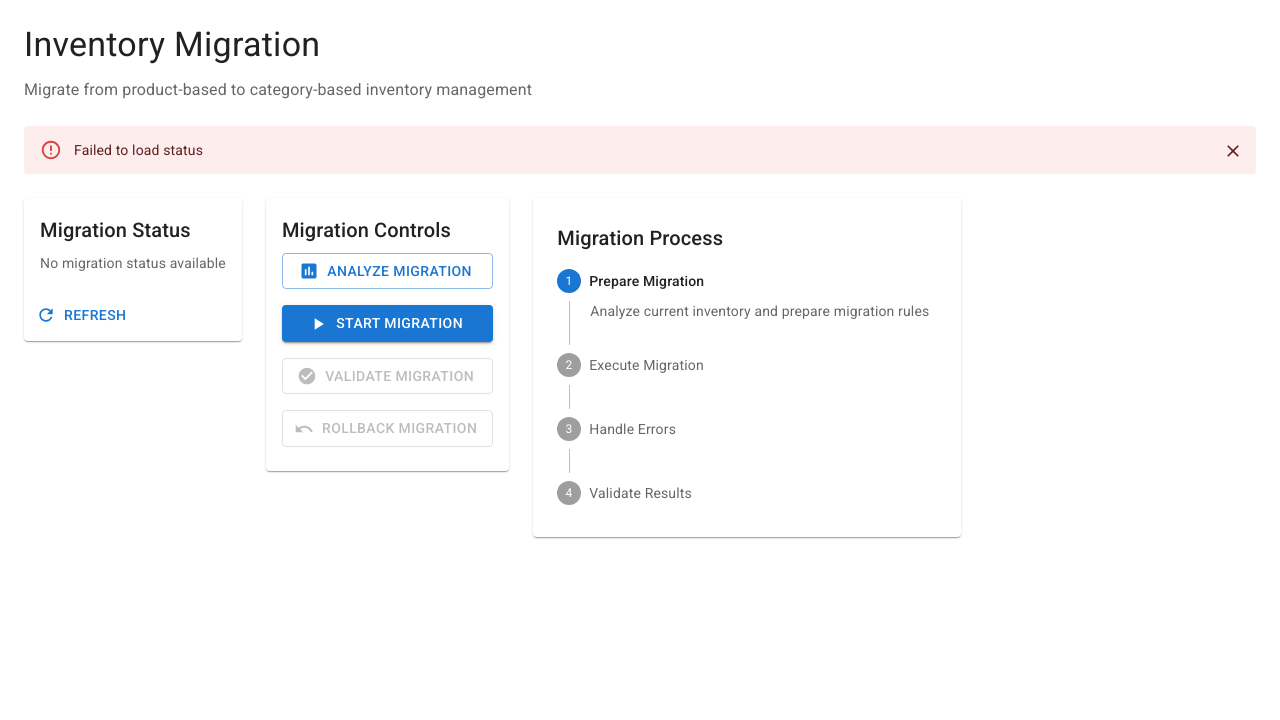
MigrationPage › error handling › should close error alert when close button is clicked
Expected: the text "Failed to load status" is shown, [74,142,203,158]
Click the button named "Close" at (1233, 151), box [1218,136,1248,166]
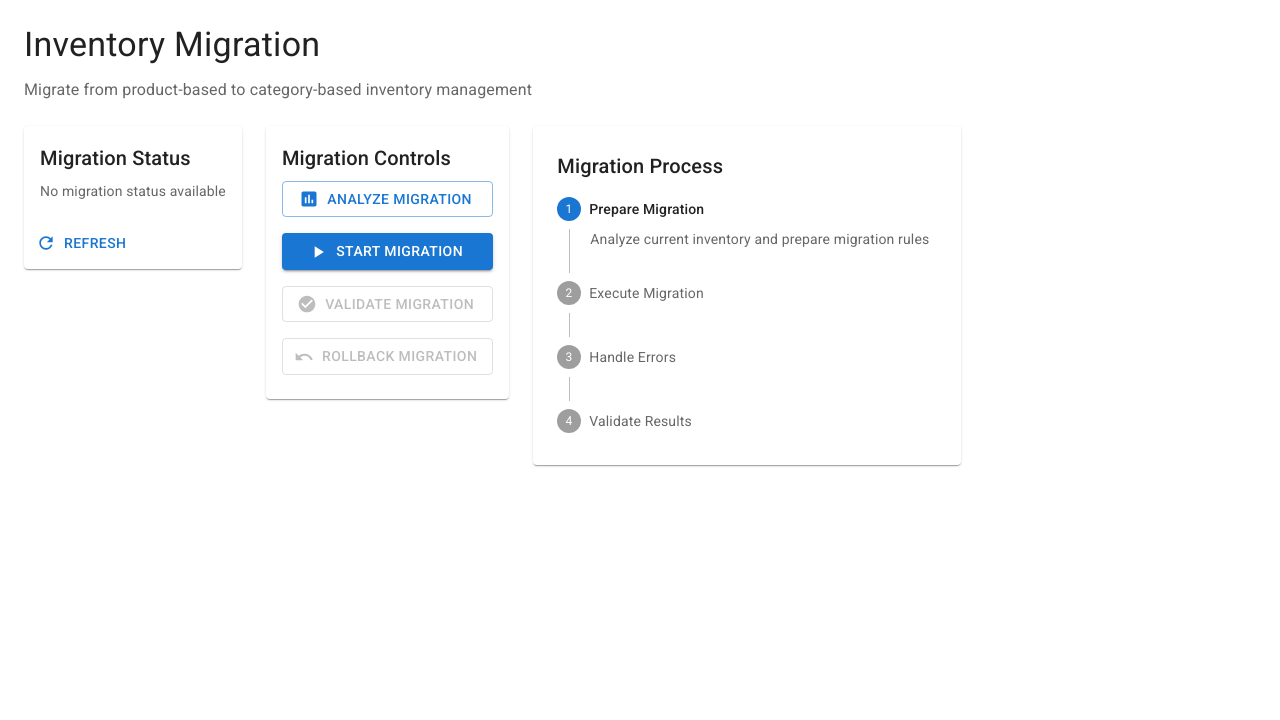
Result: the text "Failed to load status" is gone
